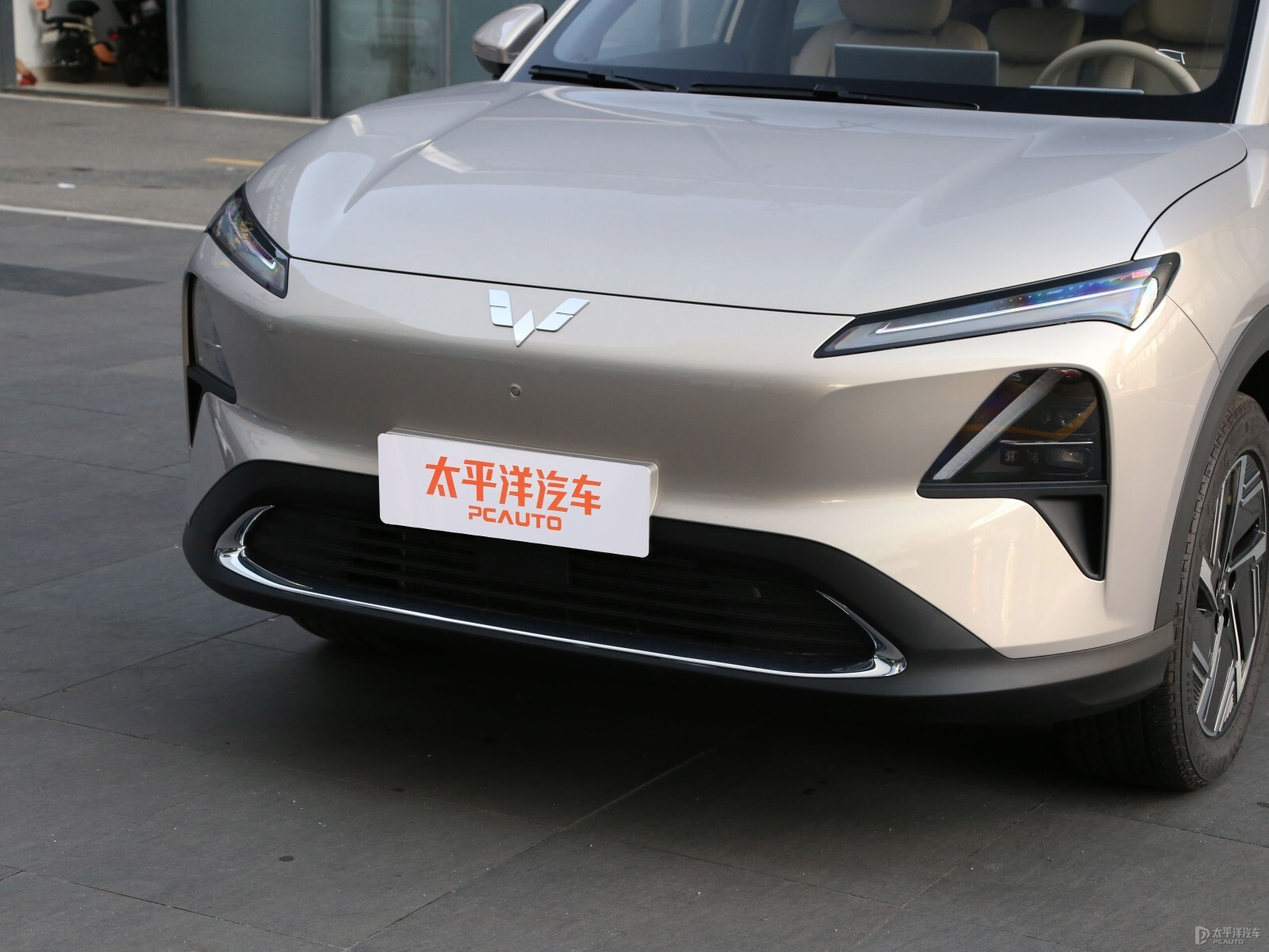SGMW: (489, 290, 589, 346)
